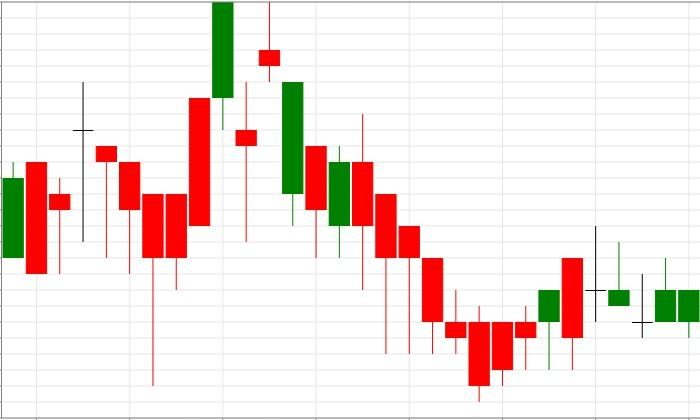hammer_rise: (258, 2, 419, 353)
